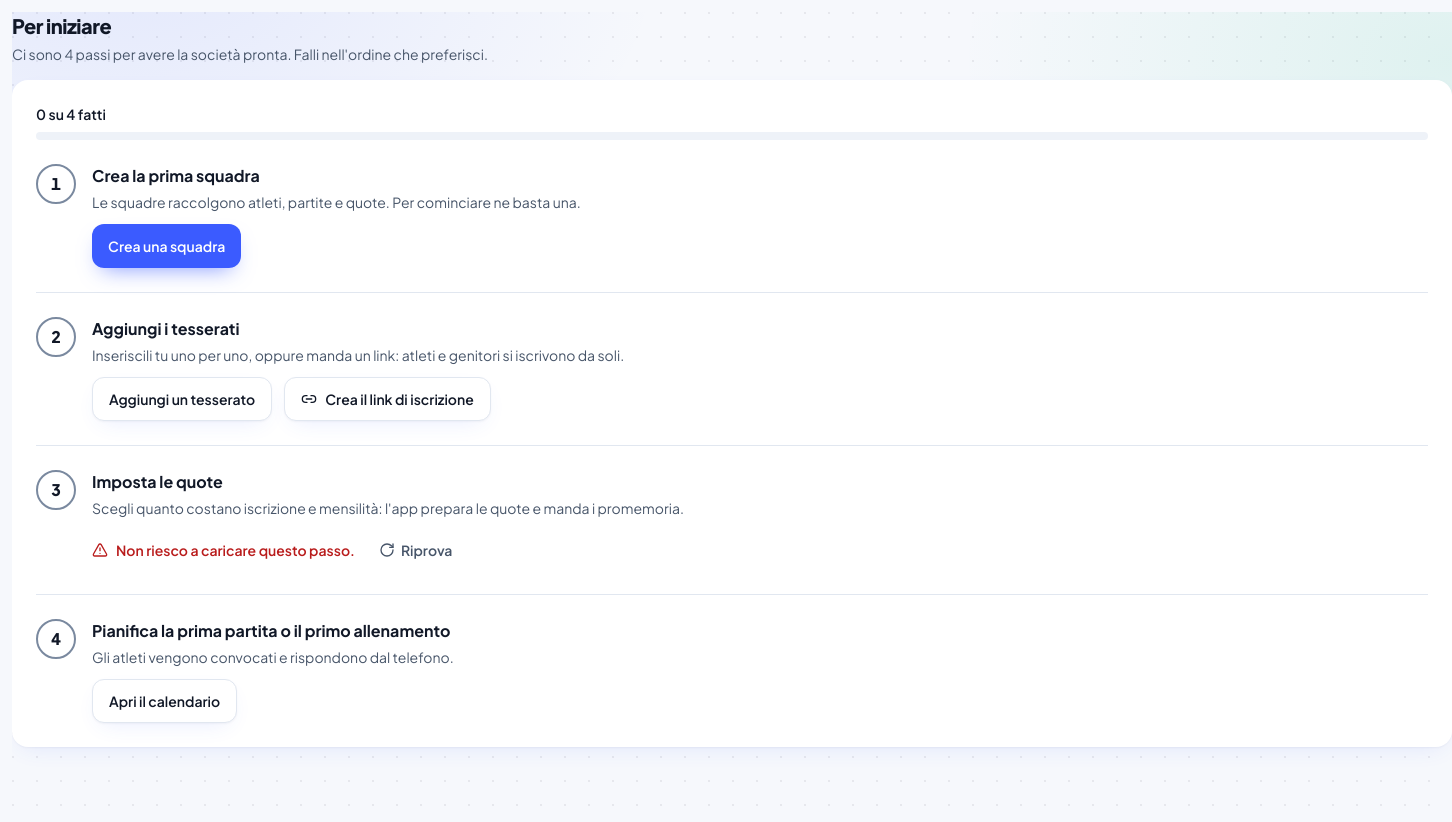
GettingStarted › says so on a step it could not check, and retries it
Expected: the message shows "Non riesco a caricare questo passo", [92, 530, 464, 570]
Click the button "Riprova". click: (416, 550)
box: [367, 530, 464, 570]
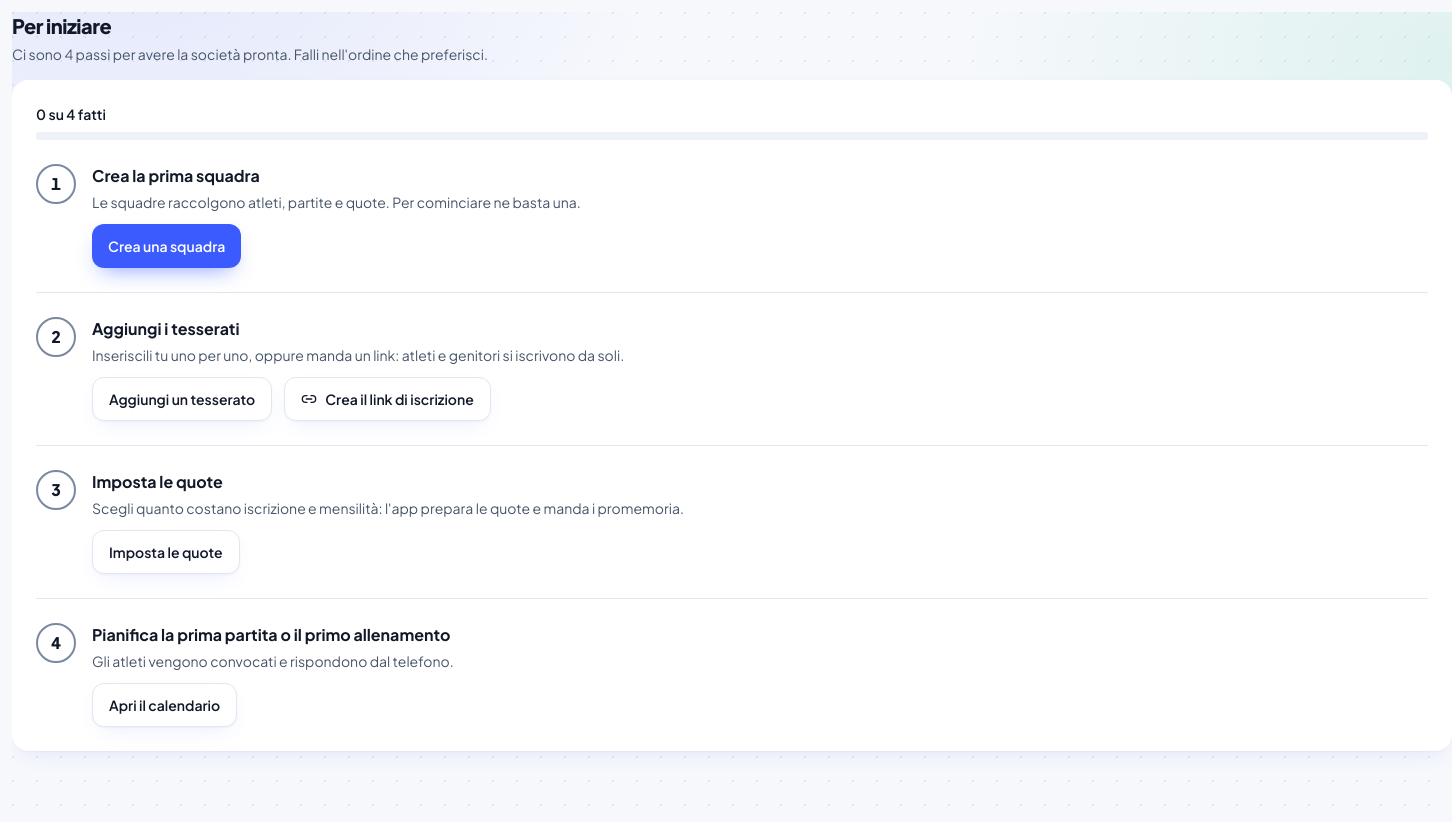
Expected: the link "Imposta le quote" is shown, [92, 530, 240, 574]
